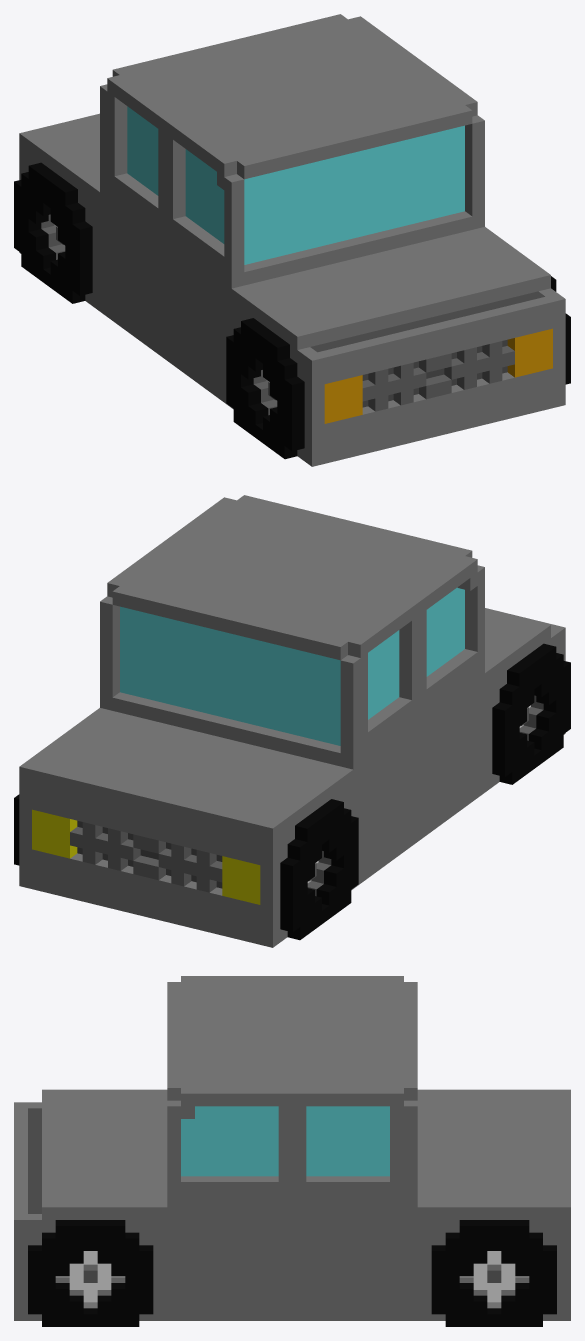
File: car.obj
3 views of the same model, one above another, from view 1: azimuth 30°, elevation 25°; view 2: azimuth 150°, elevation 25°; view 3: azimuth 270°, elevation 25° (orthographic). The views are drawn at different scales.
Bounding box in the file's own units: 2.2 × 1.8 × 4.
Materials: 1 (1 with a texture image).
